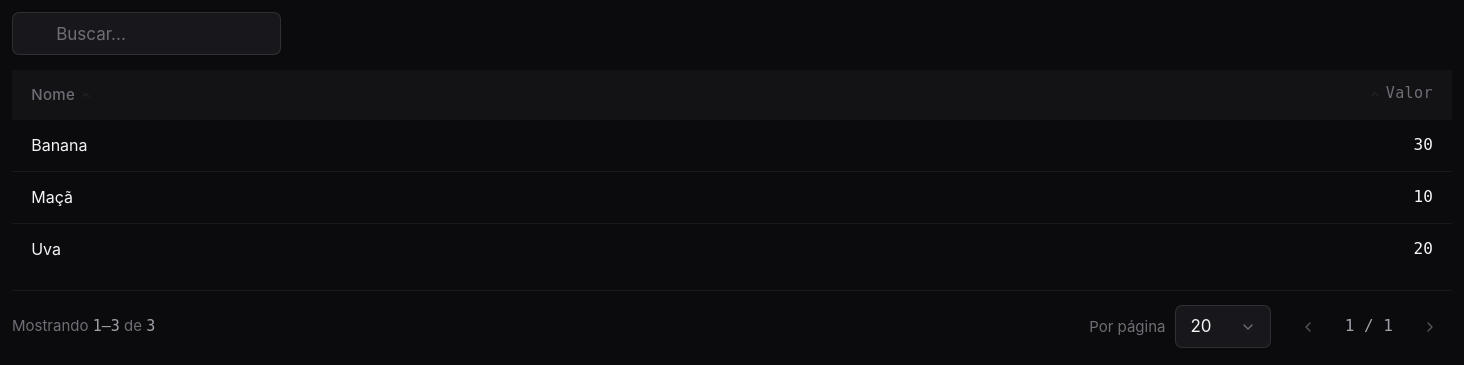
Test: DataTable › filtra as linhas pela busca textual
Expected: the text "Banana" is shown, [12,120,721,171]
Expected: the text "Maçã" is shown, [12,171,721,224]
Type "ban" into the field labelled "Buscar..." at (146, 34), box [12,12,281,55]
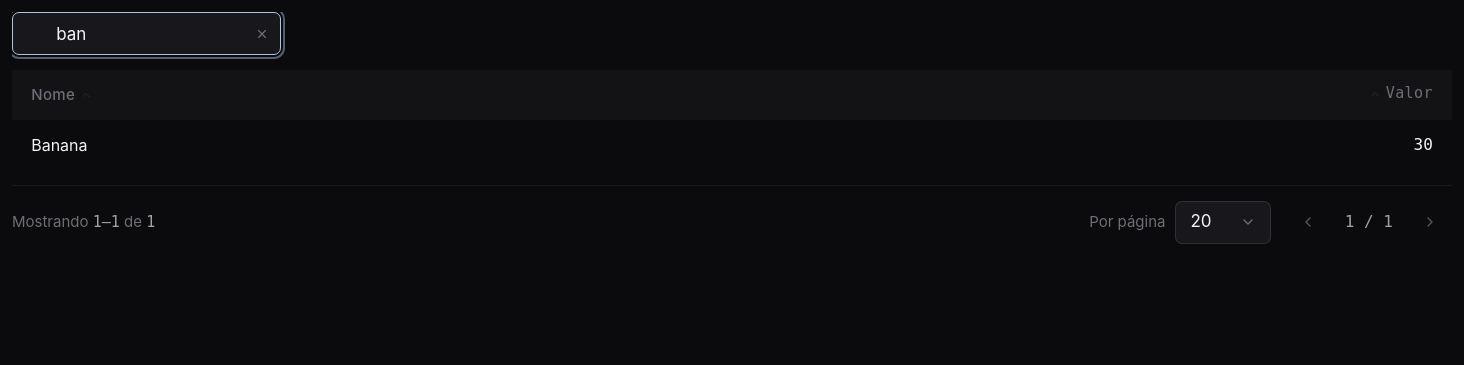
Expected: the text "Banana" is shown, [12,120,721,171]
Now the text "Maçã" is gone
Now the text "Uva" is gone
